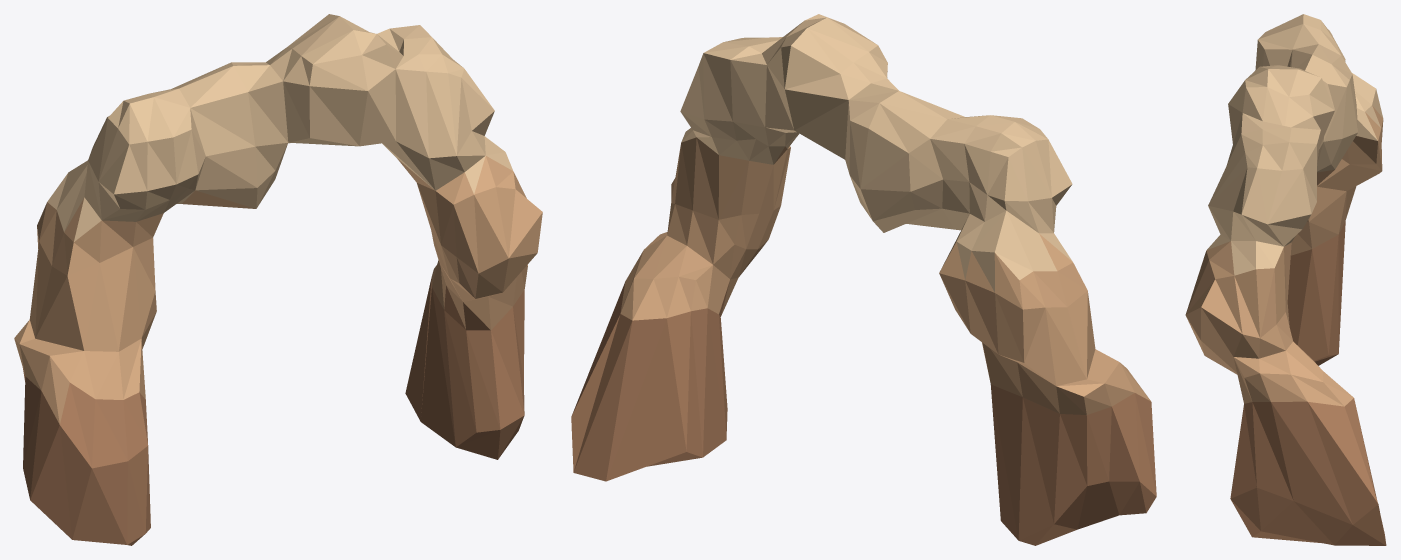
Rendered from canyon-0-5.glb.
The picture shows the model from 3 angles, left to right: view 1: azimuth 30°, elevation 25°; view 2: azimuth 150°, elevation 25°; view 3: azimuth 270°, elevation 25°; orthographic projection. The views are drawn at different scales.
Parts seen in each view (by area): view 1: canyon-0-5; view 2: canyon-0-5; view 3: canyon-0-5.
Boxes of the visible parts, box(x1,y1,x2,y2) form: canyon-0-5: box(14, 14, 542, 545); canyon-0-5: box(571, 14, 1156, 545); canyon-0-5: box(1185, 14, 1386, 545).
Size of the model in its own units: 32.85 by 28 by 12.44.
